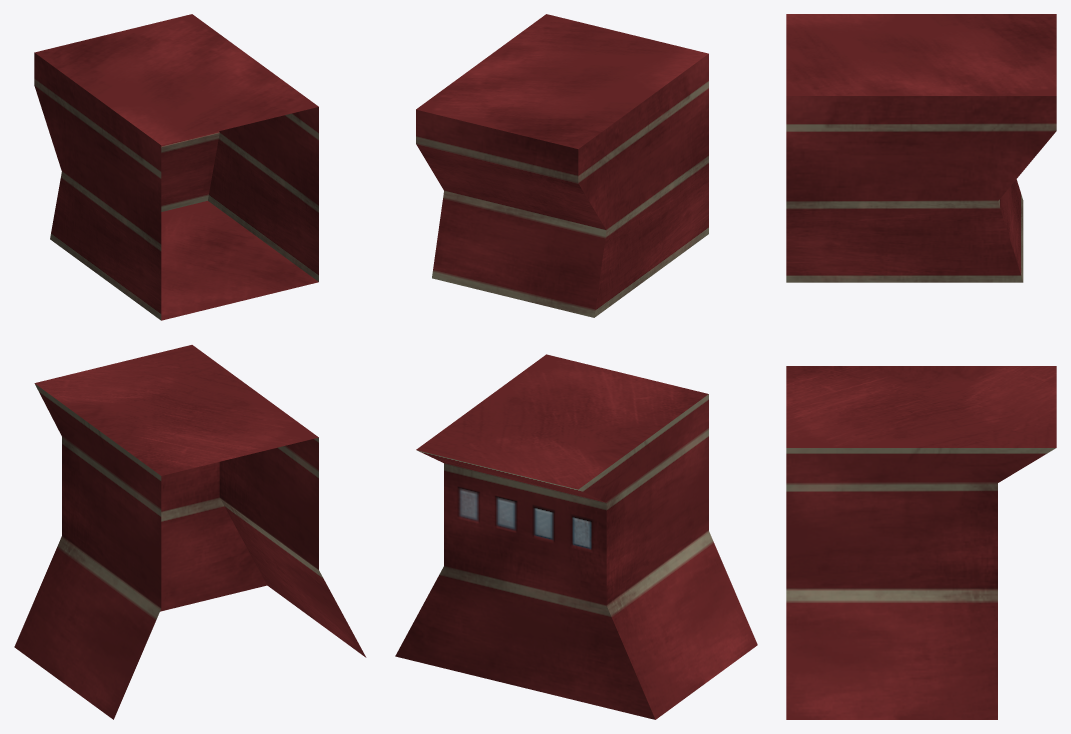
The picture shows the model from 3 angles, left to right: view 1: azimuth 30°, elevation 25°; view 2: azimuth 150°, elevation 25°; view 3: azimuth 270°, elevation 25°; orthographic projection. The views are drawn at different scales.
Parts seen in each view (by area): view 1: B_1B; view 2: B_1B; view 3: B_1B.
Boxes of the visible parts, <box> form: B_1B: <box>14,14,366,719</box>; B_1B: <box>395,14,757,719</box>; B_1B: <box>786,14,1056,719</box>.
Size of the model in its own units: 56.22 by 120 by 48.82.
